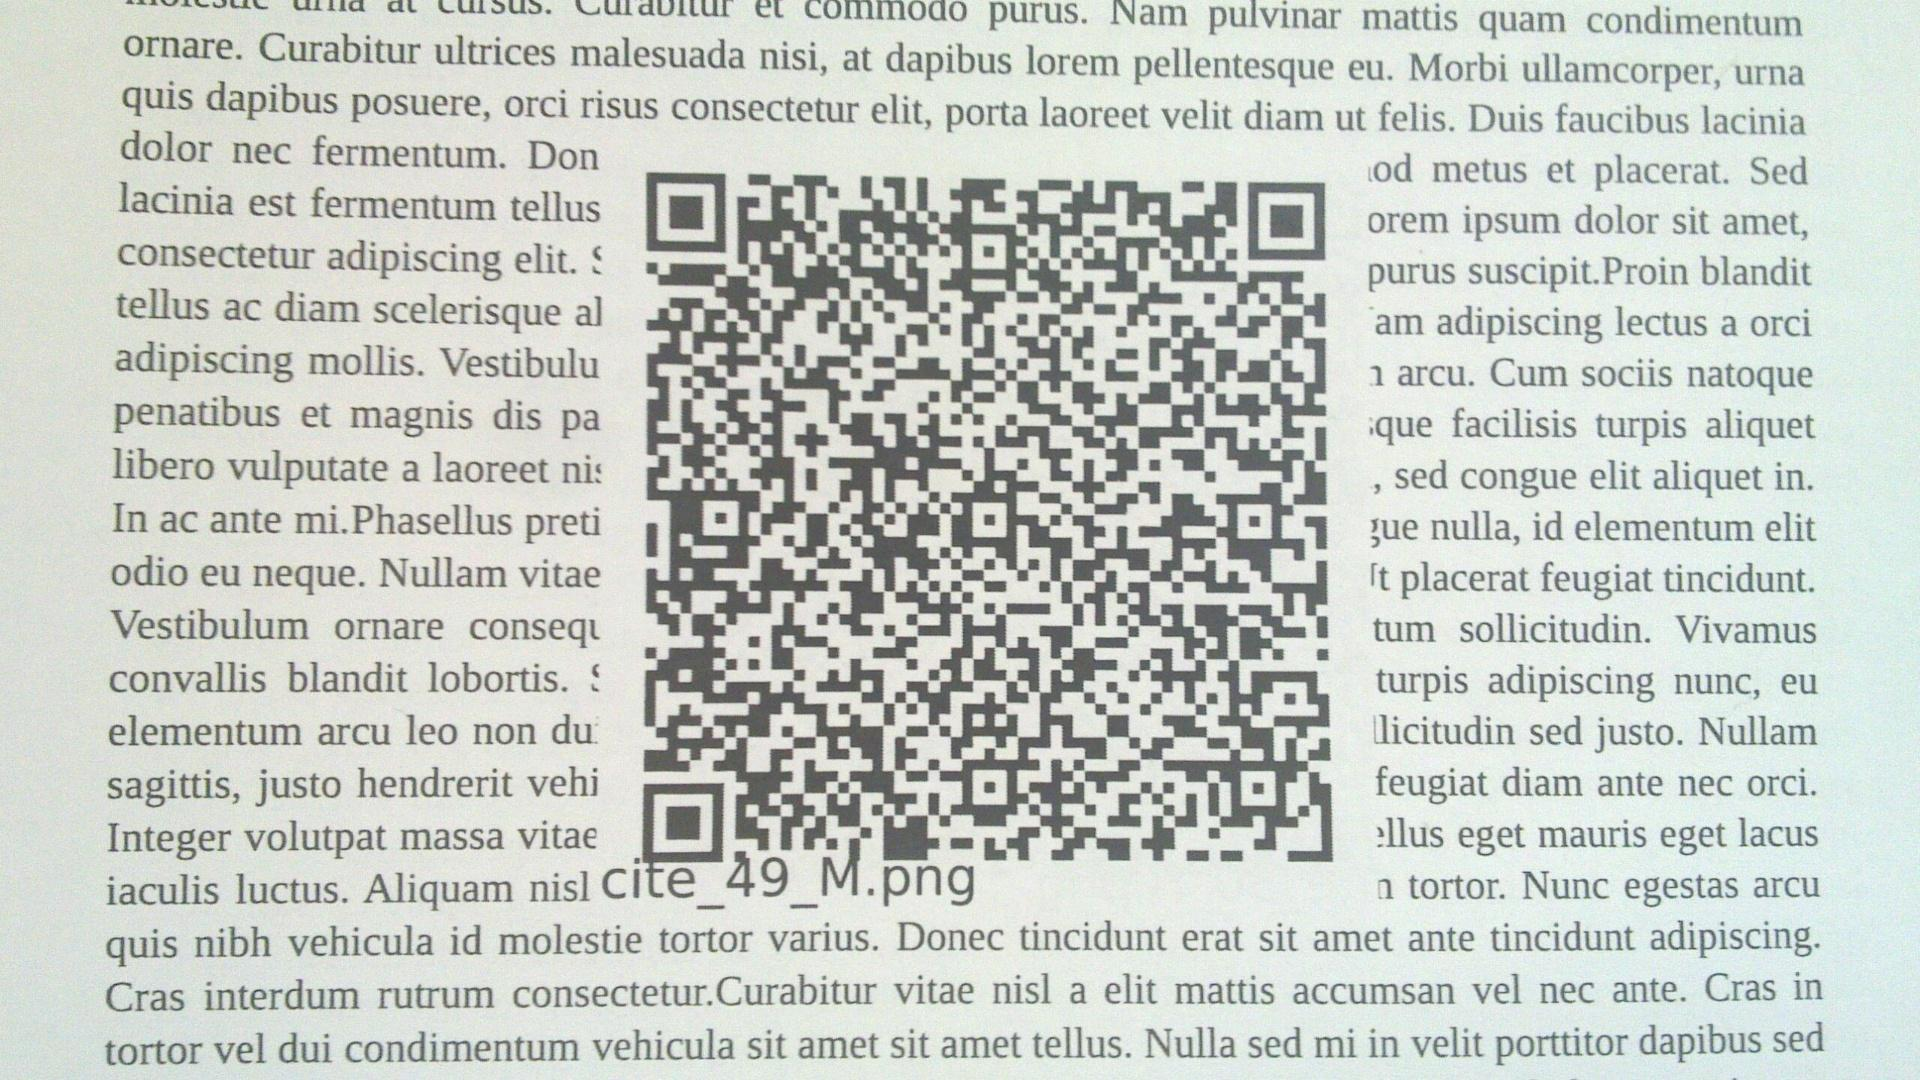Finder pattern: (637, 161, 733, 258), (636, 777, 735, 870), (1240, 175, 1333, 266)
